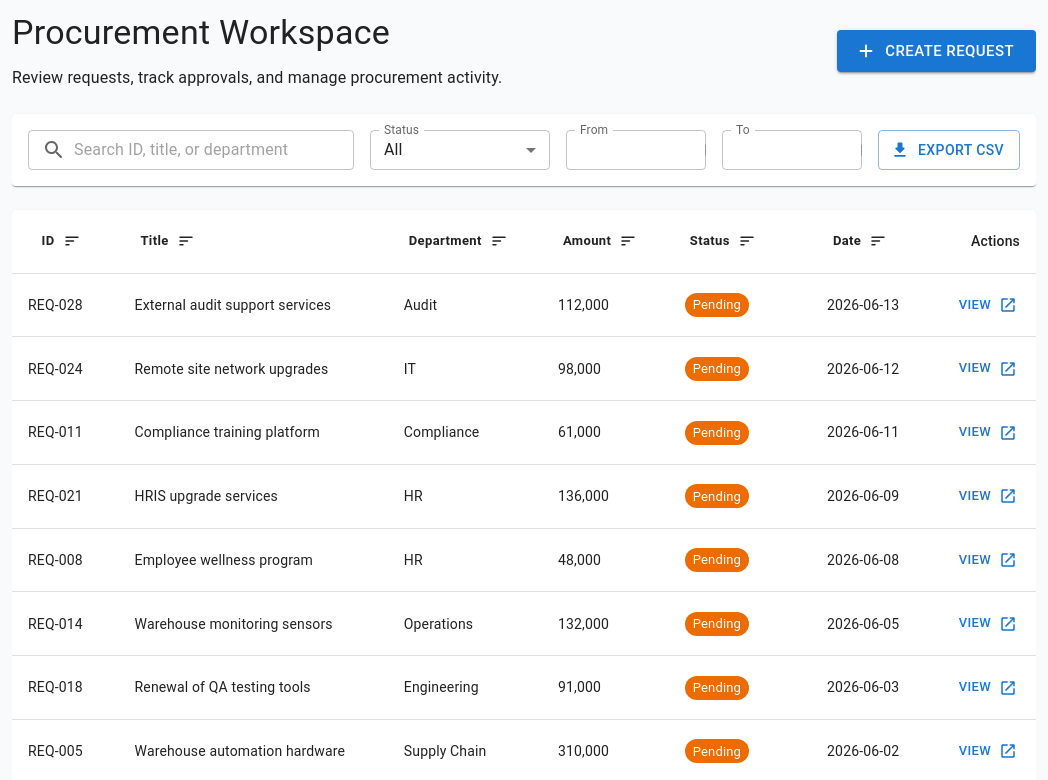
ProcurementPage › shows empty state when no requests match filters
Type "zzzz" into the field with placeholder "Search ID, title, or department".
click(214, 150); type("zzzz")  # box [74,130,354,170]
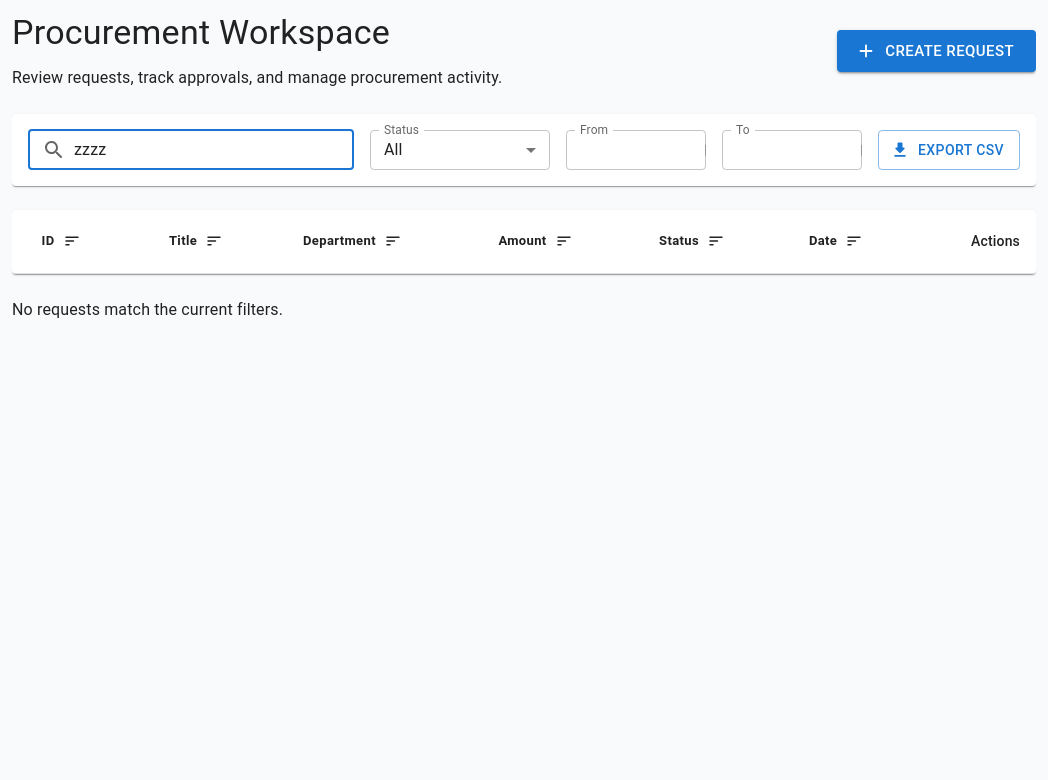
Now the text "No requests match the current filters." is shown, box [12,300,283,319]
